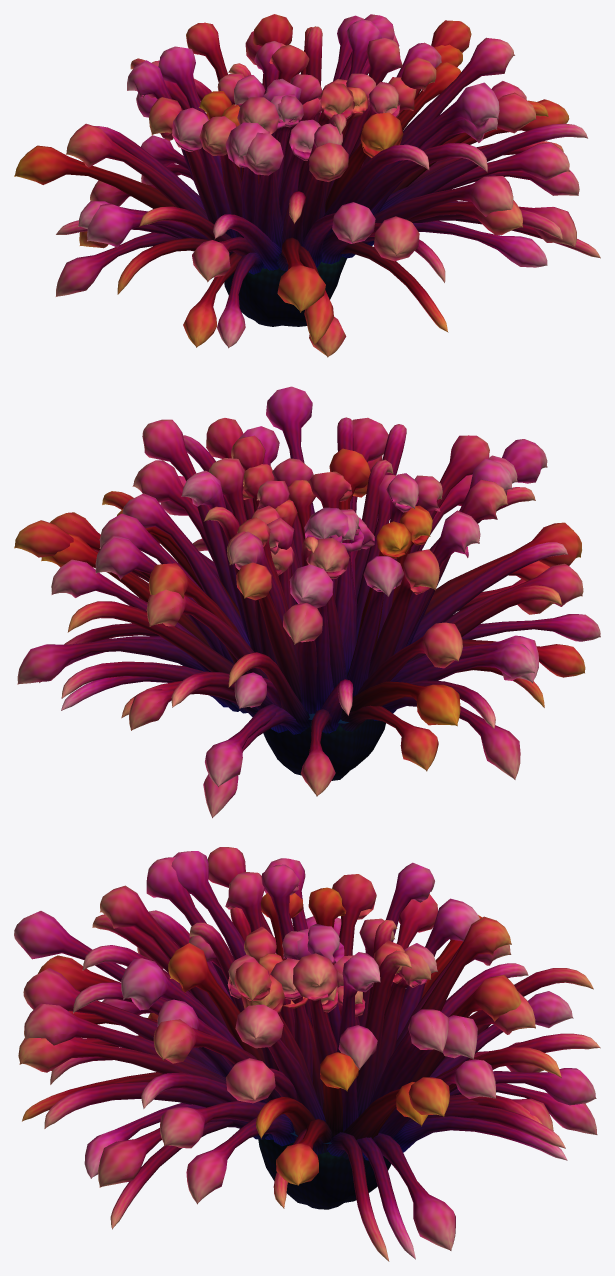
File: reef-anemone-rose-bta.glb
3 renders of one model, top to bottom at view 1: azimuth 30°, elevation 25°; view 2: azimuth 150°, elevation 25°; view 3: azimuth 270°, elevation 25°, orthographic. The views are drawn at different scales.
Parts seen in each view (by area): view 1: Reef_Anemone_Rose_BTA; view 2: Reef_Anemone_Rose_BTA; view 3: Reef_Anemone_Rose_BTA.
Part boxes in pixels (x1=…): Reef_Anemone_Rose_BTA: x1=14, y1=14, x2=600, y2=357; Reef_Anemone_Rose_BTA: x1=14, y1=386, x2=600, y2=818; Reef_Anemone_Rose_BTA: x1=14, y1=847, x2=600, y2=1261.
Bounding box in the file's own units: 0.2894 × 0.1565 × 0.2771.
2 materials, 2 textured.
